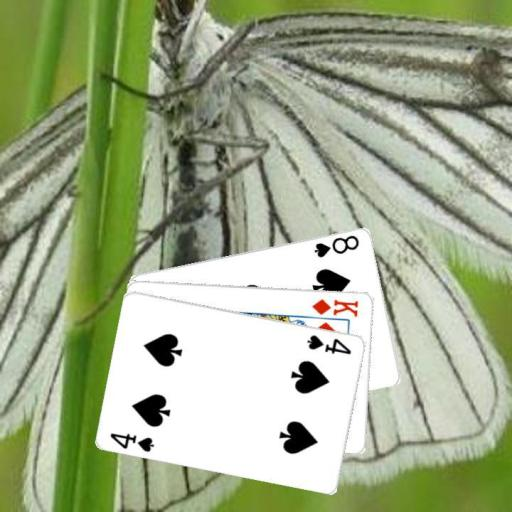4S: (107, 429, 156, 454), (305, 332, 354, 356)
8S: (311, 232, 361, 259)
KD: (309, 295, 361, 318)
